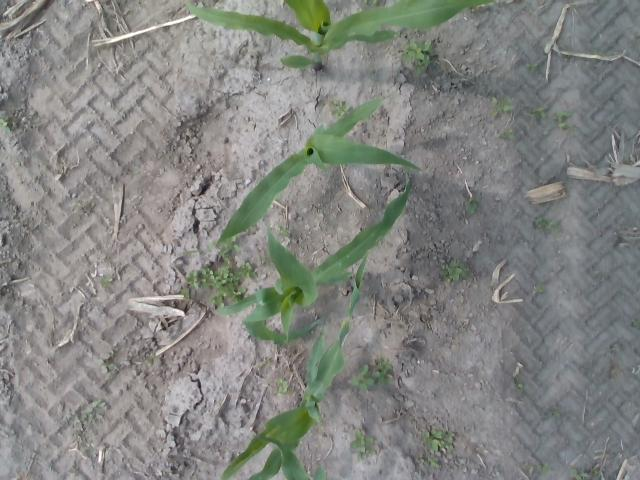Maize: (185, 96, 423, 252), (214, 174, 410, 346), (223, 254, 366, 480), (184, 0, 496, 73), (252, 434, 326, 480)
Weeds: (186, 260, 258, 308), (402, 36, 436, 74), (349, 428, 378, 462), (422, 428, 456, 452), (80, 397, 106, 427), (210, 234, 240, 259), (440, 260, 470, 284), (349, 364, 374, 391), (550, 110, 578, 132), (372, 358, 394, 386), (534, 216, 562, 234), (491, 97, 512, 119), (570, 468, 602, 480), (330, 99, 350, 117), (276, 376, 294, 396), (462, 196, 480, 214), (274, 224, 292, 242), (97, 358, 117, 373), (528, 104, 548, 118), (99, 274, 113, 290), (501, 127, 516, 140), (536, 462, 550, 475), (0, 116, 11, 132), (424, 456, 438, 468), (144, 353, 155, 365), (525, 63, 538, 72), (534, 284, 544, 294), (547, 410, 561, 417), (514, 378, 522, 390), (633, 318, 640, 330), (362, 0, 378, 5), (180, 288, 188, 298)
